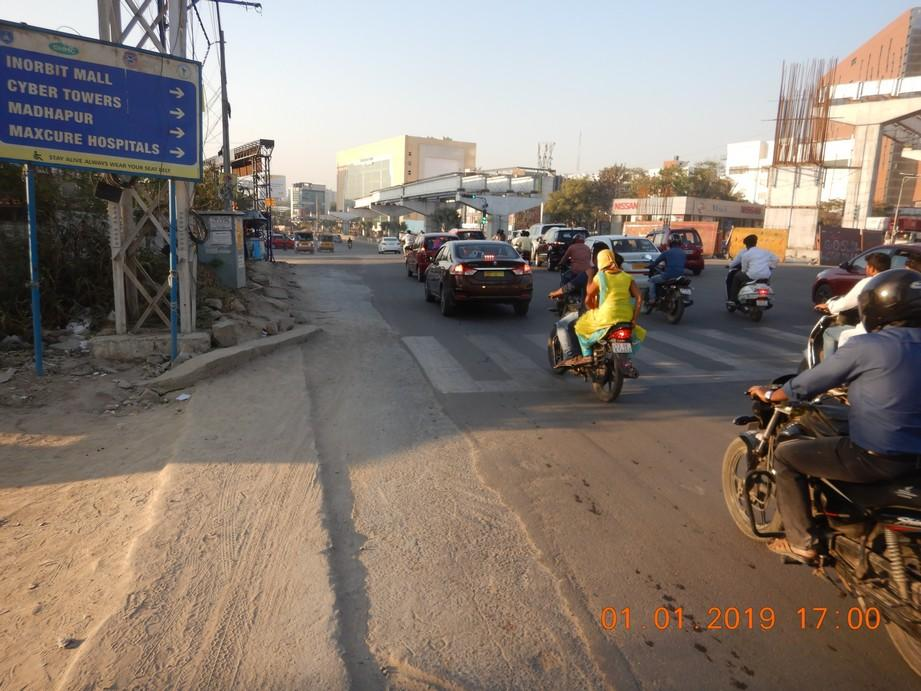plate: (610, 341, 633, 355)
